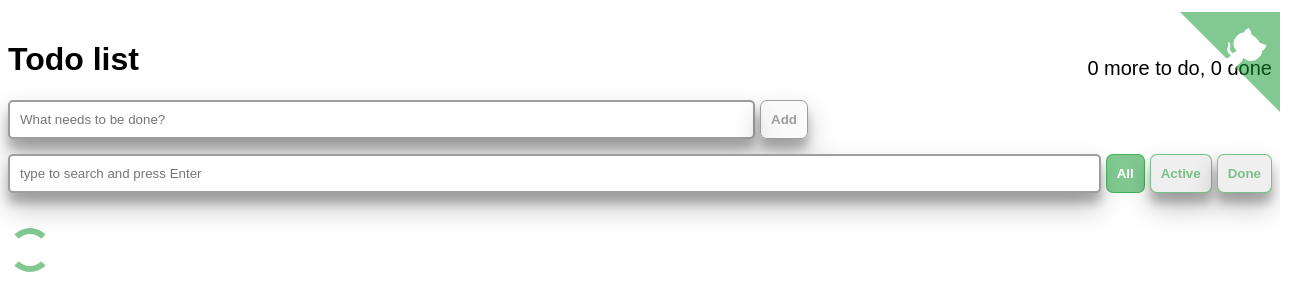
Test case: TodoApp component › Сomponent works › todoAddBtn check button state is not disabled when textbox is not empty
In the field with test id "todoAddField": (382, 119) [8,100,755,139], type "Click on button"
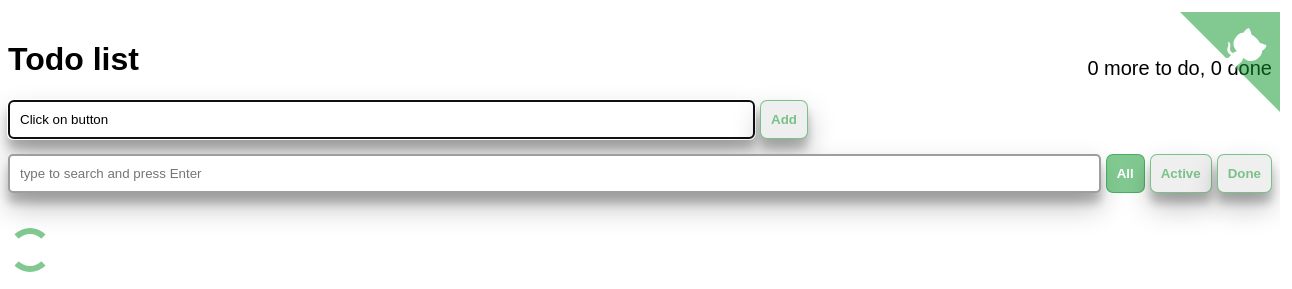
Check: the button with test id "todoAddBtn" is enabled, box [760,100,808,139]
